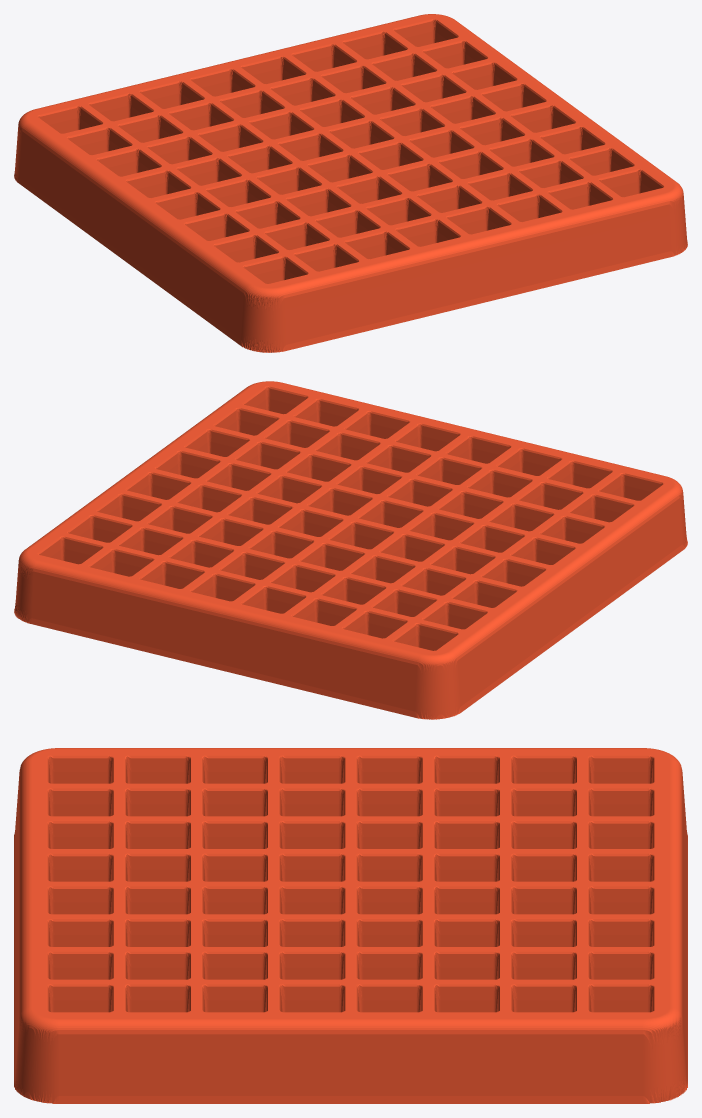
The model's file is mold.glb.
3 renders of one model, top to bottom at view 1: azimuth 30°, elevation 25°; view 2: azimuth 150°, elevation 25°; view 3: azimuth 270°, elevation 25°, orthographic. The views are drawn at different scales.
Parts seen in each view (by area): view 1: geometry_0; view 2: geometry_0; view 3: geometry_0.
Part boxes in pixels (x1,y1,x2,y2): geometry_0: (14,14,687,352); geometry_0: (14,381,687,719); geometry_0: (14,748,687,1103).
Bounding box in the file's own units: 0.1355 × 0.0172 × 0.1355.
